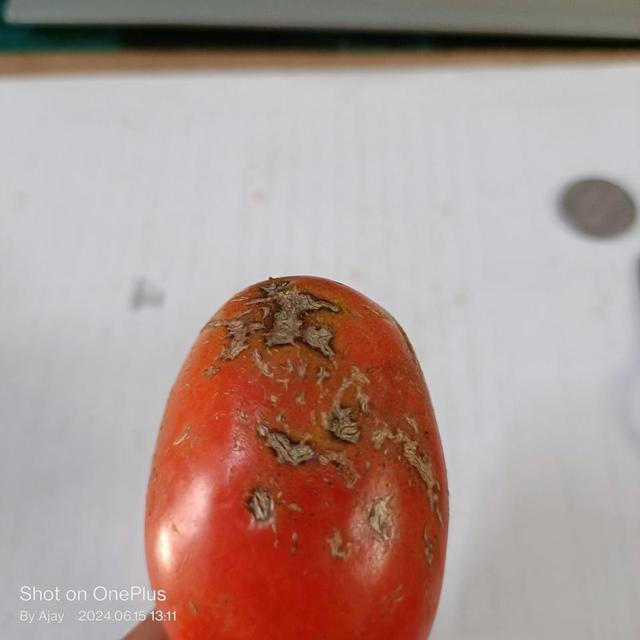Bacterial Spot Fruit: (29, 26, 231, 336)
